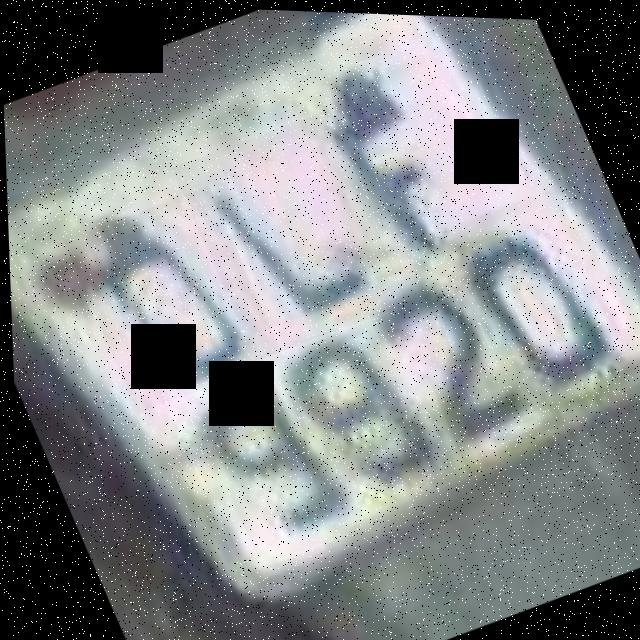0: (419, 179, 639, 429)
2: (328, 230, 558, 482)
8: (248, 277, 468, 529)
9: (158, 339, 371, 577)
F: (288, 46, 502, 285)
J: (168, 103, 408, 363)
O: (59, 179, 283, 416)
